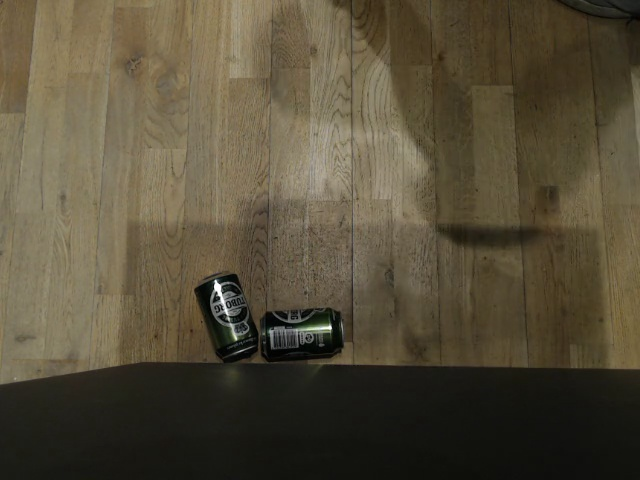beer: (194, 270, 258, 360), (259, 307, 344, 361)
